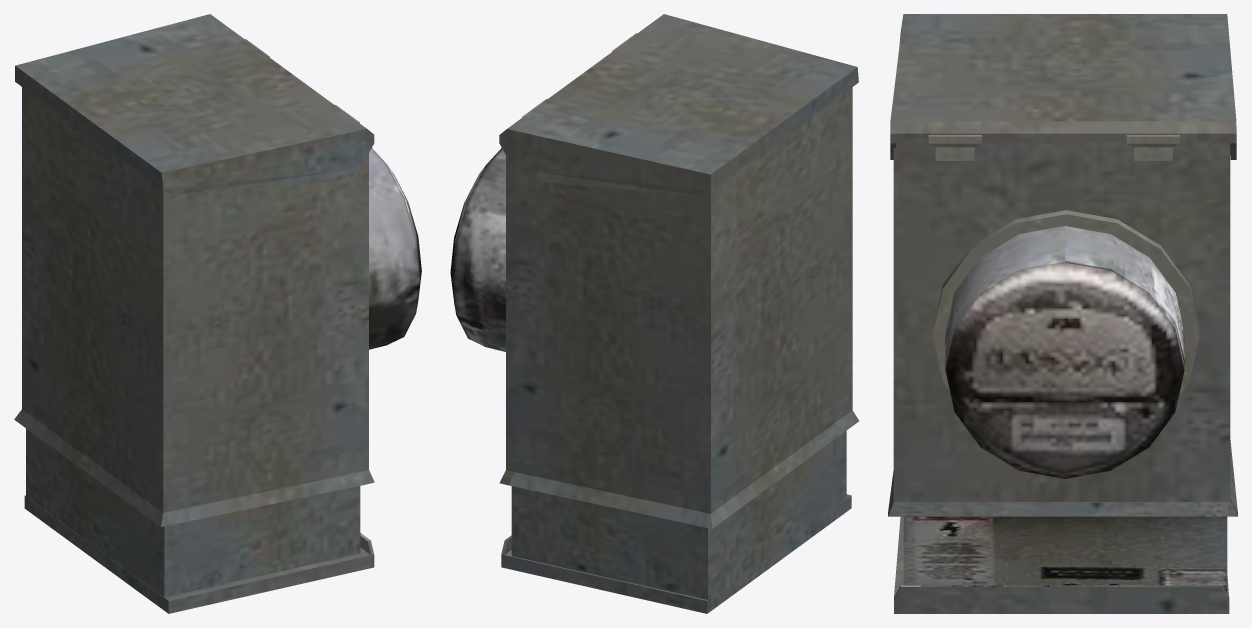
Rendered from powerbox02d.glb.
3 views of the same model, side by side, from view 1: azimuth 30°, elevation 25°; view 2: azimuth 150°, elevation 25°; view 3: azimuth 270°, elevation 25° (orthographic). The views are drawn at different scales.
Visible parts, largest first — view 1: 0_powerbox001; view 2: 0_powerbox001; view 3: 0_powerbox001.
Part boxes in pixels (x1,y1,x2,y2): 0_powerbox001: (14,14,421,613); 0_powerbox001: (450,14,859,613); 0_powerbox001: (888,14,1237,613).
Size of the model in its own units: 0.2436 by 0.3571 by 0.2318.
1 material, 1 textured.
